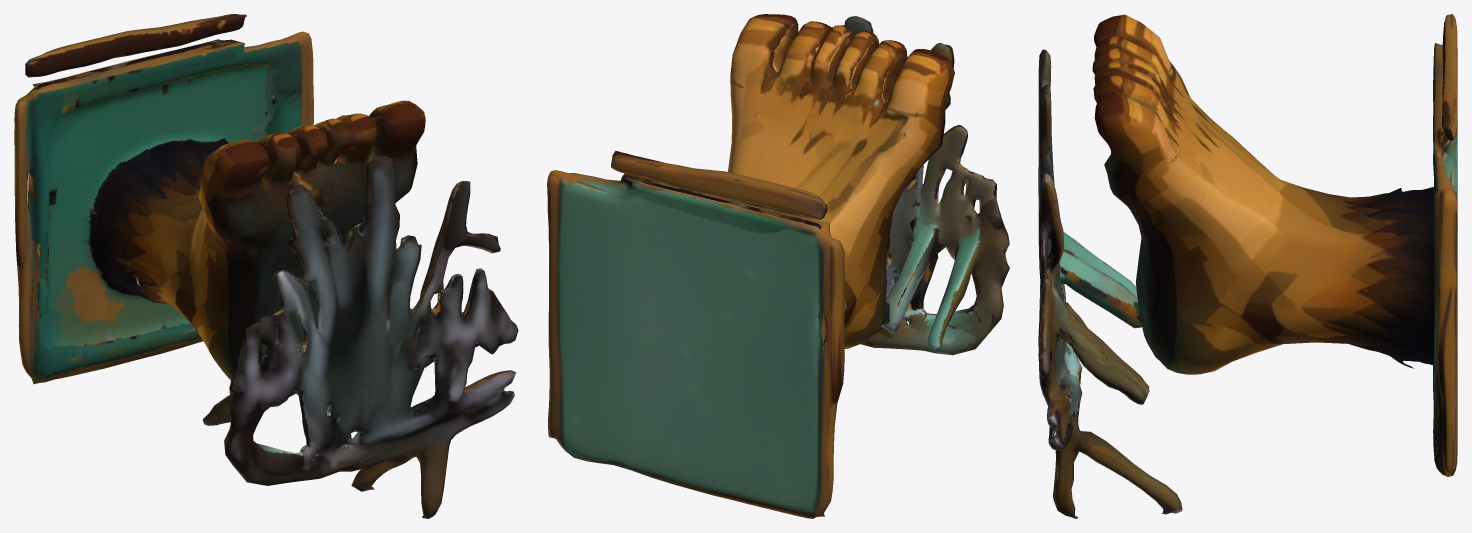
The model's file is Ashiari_Yashiki.glb.
3 views of the same model, side by side, from view 1: azimuth 30°, elevation 25°; view 2: azimuth 150°, elevation 25°; view 3: azimuth 270°, elevation 25° (orthographic). The views are drawn at different scales.
Visible parts, largest first — view 1: Retopo_ashiari_yashiki.002; view 2: Retopo_ashiari_yashiki.002; view 3: Retopo_ashiari_yashiki.002.
Part boxes in pixels (bbox=[...]): Retopo_ashiari_yashiki.002: bbox=[14, 14, 518, 518]; Retopo_ashiari_yashiki.002: bbox=[547, 14, 1009, 518]; Retopo_ashiari_yashiki.002: bbox=[1038, 14, 1457, 518].
Size of the model in its own units: 1.6 by 1.96 by 1.78.
Materials: 1 (1 with a texture image).
